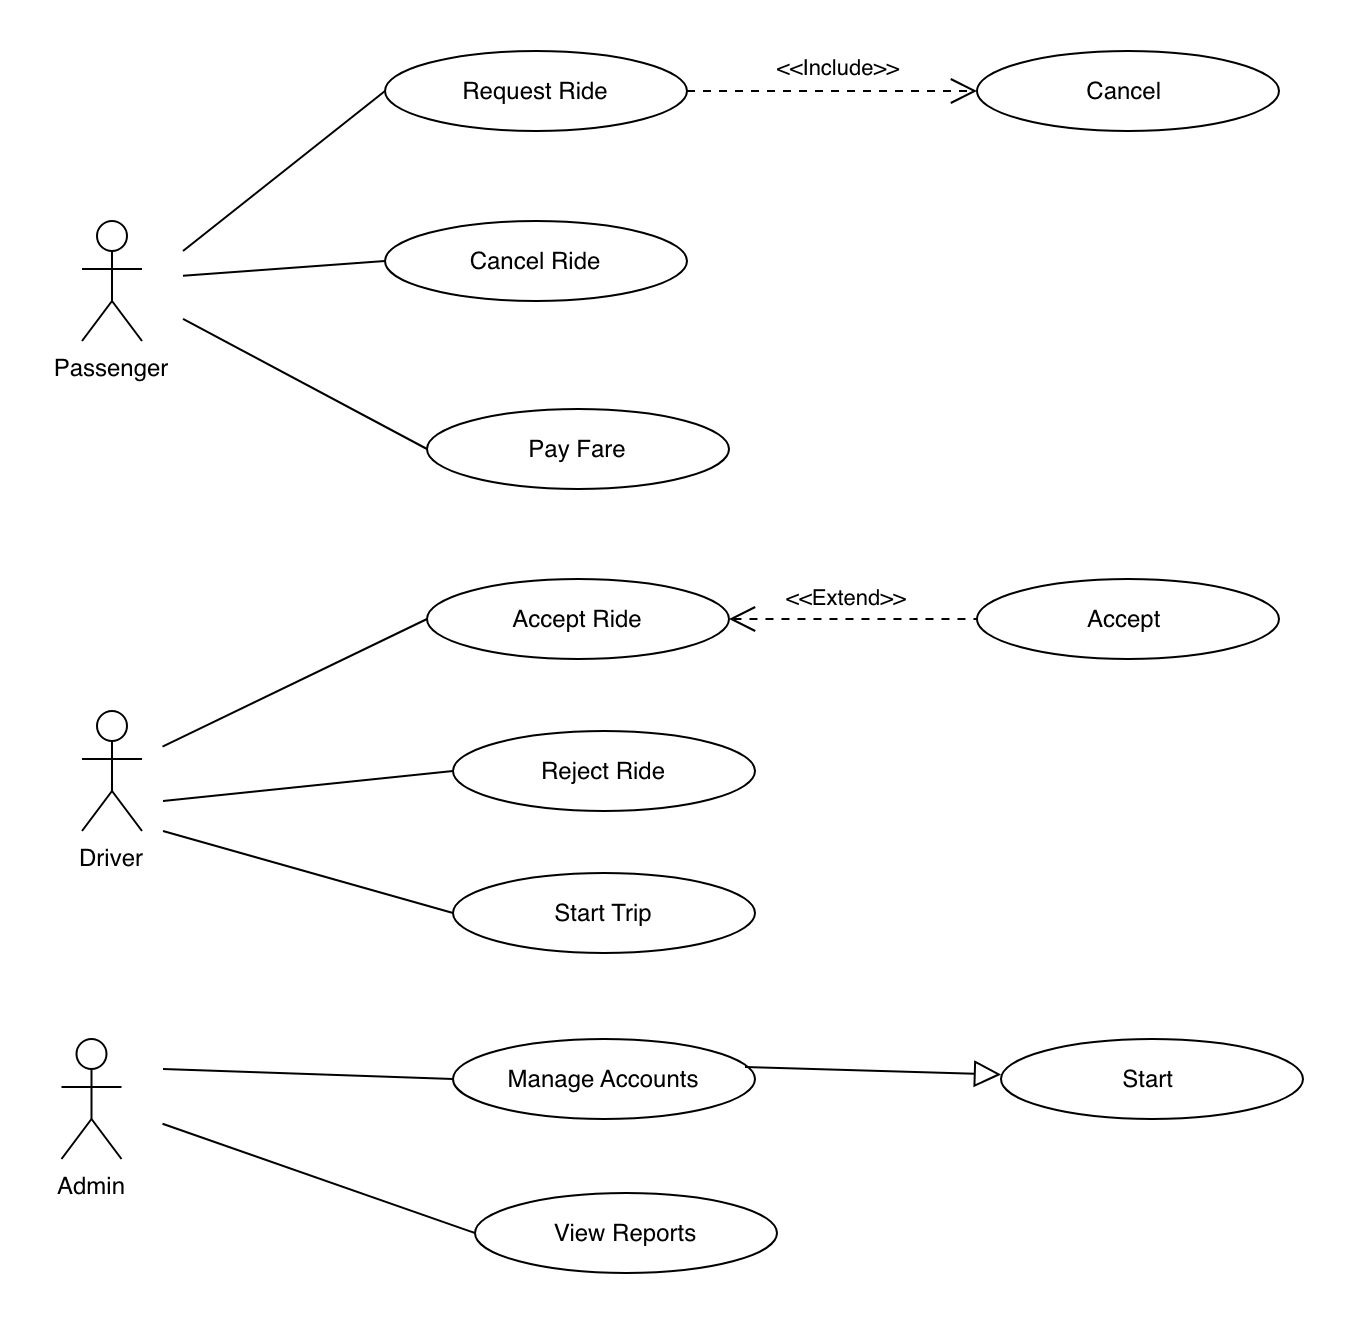actor: (54, 1033, 131, 1168), (78, 706, 147, 839), (81, 217, 148, 350)
association: (162, 1116, 467, 1233), (160, 615, 423, 750), (177, 94, 379, 261), (176, 312, 421, 445), (162, 823, 452, 913), (162, 766, 450, 810), (157, 1057, 449, 1091), (684, 76, 976, 110), (731, 602, 972, 637), (179, 256, 372, 286)
generalization: (755, 1055, 998, 1088)
text: (500, 1063, 704, 1096), (545, 1212, 705, 1252), (504, 595, 651, 635), (456, 72, 613, 108), (534, 752, 672, 792), (463, 243, 607, 279), (519, 427, 639, 469), (784, 577, 909, 613), (46, 351, 174, 384), (771, 55, 905, 84), (1079, 67, 1169, 111), (552, 896, 667, 929), (1123, 1057, 1191, 1099), (72, 845, 155, 877), (1076, 606, 1173, 633), (58, 1171, 135, 1201)
use_case: (472, 1182, 783, 1276), (450, 1034, 760, 1126), (972, 46, 1281, 137), (425, 404, 733, 494), (449, 869, 757, 959), (381, 218, 693, 307), (450, 726, 757, 816), (972, 575, 1282, 664), (998, 1035, 1309, 1123), (382, 48, 690, 135), (425, 576, 735, 662)
